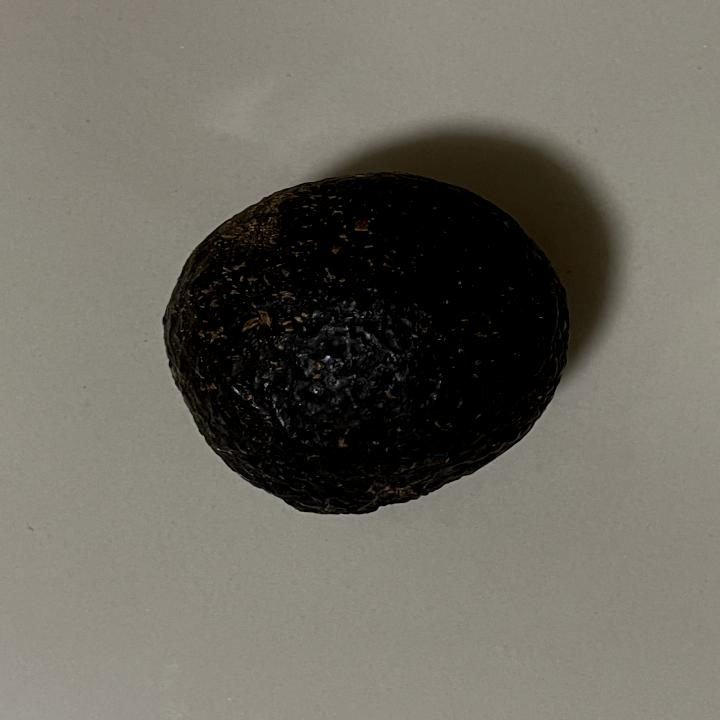Level3: (150, 165, 582, 525)
